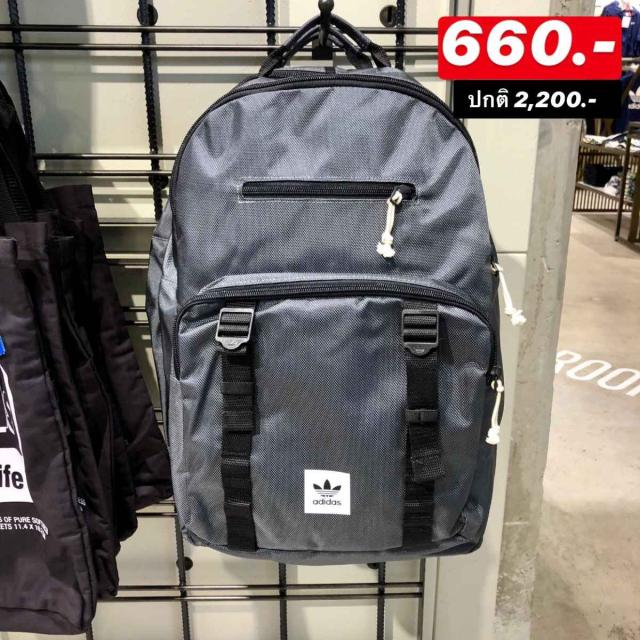handbag: (144, 10, 515, 572)
